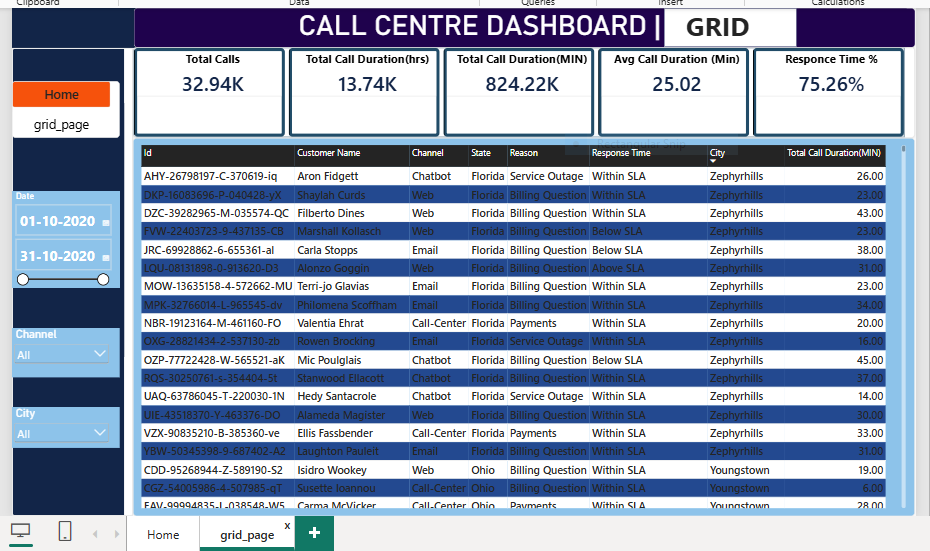

The dashboard page shown, as its layout file describes it:
{"tool":"powerbi","page":{"name":"grid_page","canvas":[1920,1080],"ordinal":1},"visuals":[{"type":"shape","box":[0,0,1920,84.9],"z":0},{"type":"shape","box":[0,85.1,257.6,994.7],"z":1000},{"type":"cardVisual","fields":{"Data":["Call Center_Call Center.Total Calls","Call Center_Call Center.Total Call Duration(hrs)","Call Center_Call Center.Total Call Duration(MIN)","Call Center_Call Center.Avg Call Duration (Min)","Call Center_Call Center.Responce Time %"]},"box":[257.5,83.3,1662.5,193.1],"z":2000},{"type":"textbox","title":"CALL  CENTRE DASHBOARD | HOME","box":[259.9,0,1661,83.7],"z":3000},{"type":"slicer","fields":{"Values":["Date Table.Date"]},"box":[0,389.8,228.5,206.1],"z":4000},{"type":"slicer","fields":{"Values":["Call Center_Call Center.Channel"]},"box":[0,681.1,228.5,105.3],"z":5000},{"type":"slicer","fields":{"Values":["Call Center_Call Center.City"]},"box":[0,849.1,228.5,87.4],"z":6000},{"type":"tableEx","fields":{"Values":["Call Center_Call Center.Id","Call Center_Call Center.Customer Name","Call Center_Call Center.Channel","Call Center_Call Center.State","Call Center_Call Center.Reason","Call Center_Call Center.Response Time","Call Center_Call Center.City","Call Center_Call Center.Total Call Duration(MIN)"]},"box":[258,276,1662,804],"z":7000},{"type":"shape","box":[1386.8,0,300.2,82.9],"z":8000},{"type":"textbox","box":[1433.8,0,226.3,82.9],"z":9000},{"type":"pageNavigator","box":[0,154.6,228.5,121],"z":10000}]}

Visuals, with their boxes on the page's 1920x1080 design canvas (x1, y1, x2, y2). These are canvas units, not pixel positions in the 930x551 screenshot, which may show the page scaled, cropped or inside an application window:
shape: [0, 0, 1920, 85]
shape: [0, 85, 258, 1080]
cardVisual - Call Center_Call Center.Total Calls x Call Center_Call Center.Total Call Duration(hrs): [258, 83, 1920, 276]
"CALL  CENTRE DASHBOARD | HOME" textbox: [260, 0, 1921, 84]
slicer - Date Table.Date: [0, 390, 228, 596]
slicer - Call Center_Call Center.Channel: [0, 681, 228, 786]
slicer - Call Center_Call Center.City: [0, 849, 228, 936]
tableEx - Call Center_Call Center.Id x Call Center_Call Center.Customer Name: [258, 276, 1920, 1080]
shape: [1387, 0, 1687, 83]
textbox: [1434, 0, 1660, 83]
pageNavigator: [0, 155, 228, 276]
